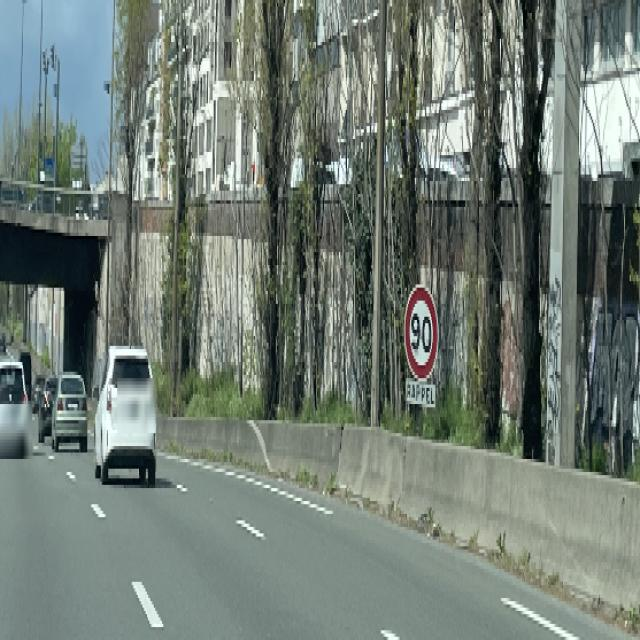speed_90: (402, 283, 439, 384)
